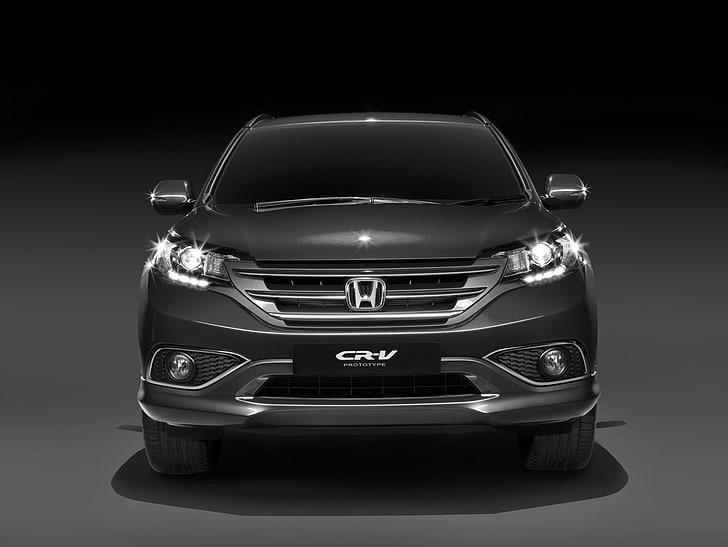Car hood: (172, 199, 566, 266)
Front bumper: (135, 301, 602, 434)
Headlight - -L-: (488, 229, 588, 286)
Headlight - -R-: (148, 235, 240, 292)
Side mirror - -L-: (541, 173, 591, 215)
Side mirror - -R-: (150, 176, 198, 218)
